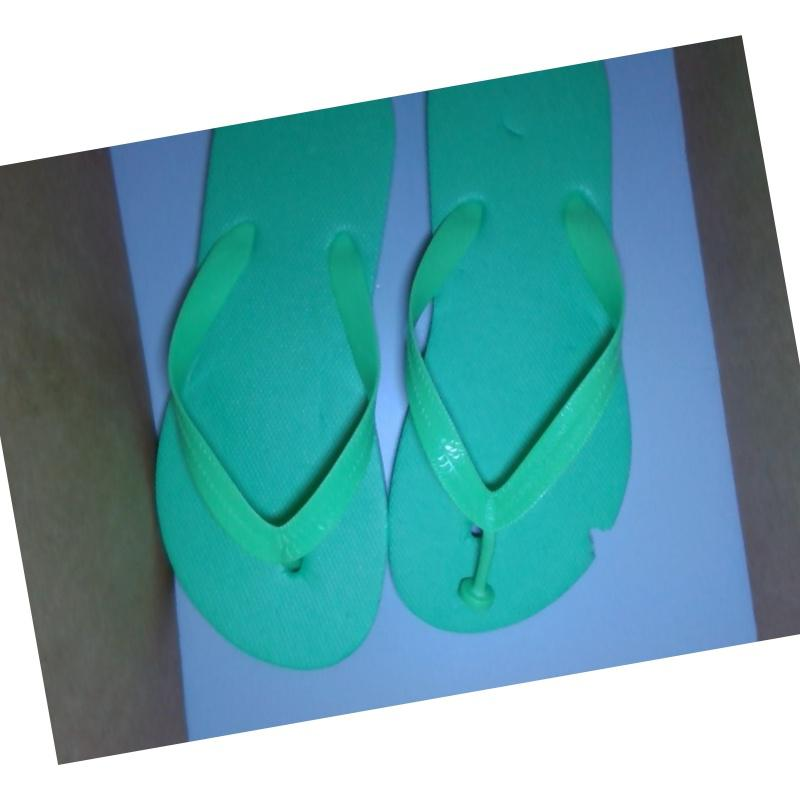chipped: (577, 497, 631, 575)
detached: (446, 556, 511, 618)
